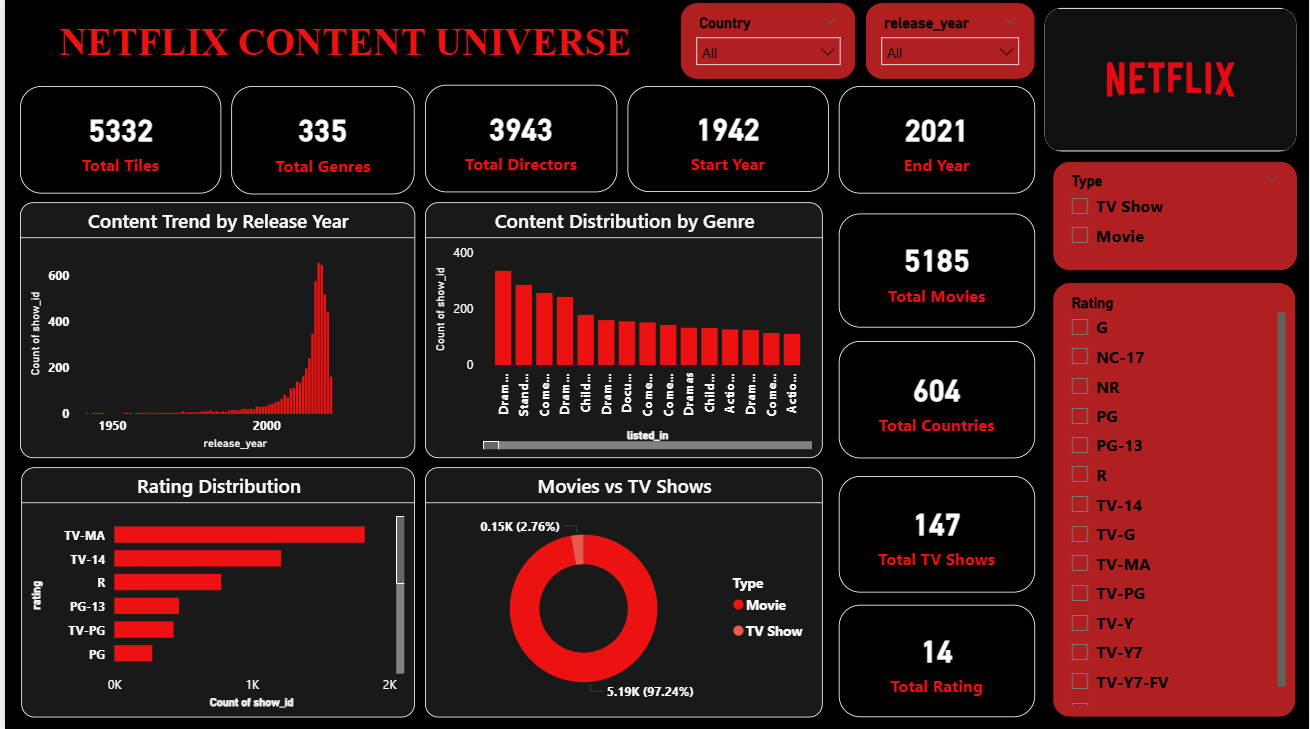

What the dashboard file says about the page in this screenshot:
{"tool":"powerbi","page":{"name":"Netflix Project","canvas":[1280,720],"ordinal":0},"visuals":[{"type":"card","fields":{"Values":["Netflix_data.Total_Directors"]},"box":[412.3,87.1,189,105.5],"z":0},{"type":"donutChart","title":"Movies vs TV Shows","fields":{"Category":["Netflix_data.type"],"Y":["CountNonNull(Netflix_data.show_id)"]},"box":[412.3,462.6,390.2,245.4],"z":1000},{"type":"clusteredColumnChart","title":"Content Trend by Release Year","fields":{"Category":["Netflix_data.release_year"],"Y":["CountNonNull(Netflix_data.show_id)"]},"box":[14.7,202.5,387.7,251.5],"z":2000},{"type":"card","fields":{"Values":["Netflix_data.Total_Tiles"]},"box":[14.7,88.3,197.5,105.5],"z":3000},{"type":"card","fields":{"Values":["Netflix_data.Total_Genres"]},"box":[222.1,88.3,180.4,106.7],"z":4000},{"type":"card","fields":{"Values":["Netflix_data.Start_Year"]},"box":[611,88.3,197.5,104.3],"z":5000},{"type":"card","fields":{"Values":["Netflix_data.End_Year"]},"box":[818.4,88.3,192.6,105.5],"z":6000},{"type":"barChart","title":"Rating Distribution","fields":{"Category":["Netflix_data.rating"],"Y":["CountNonNull(Netflix_data.show_id)"]},"box":[16,462.6,386.5,245.4],"z":7000},{"type":"lineStackedColumnComboChart","title":"Content Distribution by Genre","fields":{"Category":["Netflix_data.listed_in"],"Y":["CountNonNull(Netflix_data.show_id)"]},"box":[412.3,202.5,390.2,251.5],"z":8000},{"type":"slicer","fields":{"Values":["Netflix_data.type"]},"box":[1028.2,162,240.5,108],"z":9000},{"type":"slicer","fields":{"Values":["Netflix_data.country"]},"box":[662.6,6.1,173,76.1],"z":10000},{"type":"slicer","fields":{"Values":["Netflix_data.rating"]},"box":[1028.2,281,239.3,427],"z":11000},{"type":"slicer","fields":{"Values":["Netflix_data.release_year"]},"box":[844.2,6.1,166.9,76.1],"z":12000},{"type":"textbox","box":[14.7,11,639.3,72.4],"z":13000},{"type":"image","box":[1019.6,11,249.1,142.3],"z":14000},{"type":"card","fields":{"Values":["Netflix_data.Total_Countries"]},"box":[818.4,338.7,192.6,115.3],"z":15000},{"type":"card","fields":{"Values":["Netflix_data.Total_Movies"]},"box":[818.4,213.5,192.6,111.7],"z":16000},{"type":"card","fields":{"Values":["Netflix_data.Total_TV Shows"]},"box":[818.4,471.2,192.6,114.1],"z":17000},{"type":"card","fields":{"Values":["Netflix_data.Total_Rating"]},"box":[818.4,597.5,192.6,110.4],"z":18000}]}

Visuals, with their boxes in screenshot pixels (x1, y1, x2, y2), scaled from the page's 1280x720 canvas onto the 1310x729 screenshot:
card - Netflix_data.Total_Directors: locate(422, 88, 615, 195)
"Movies vs TV Shows" donutChart: locate(422, 468, 821, 717)
"Content Trend by Release Year" clusteredColumnChart: locate(15, 205, 412, 460)
card - Netflix_data.Total_Tiles: locate(15, 89, 217, 196)
card - Netflix_data.Total_Genres: locate(227, 89, 412, 197)
card - Netflix_data.Start_Year: locate(625, 89, 827, 195)
card - Netflix_data.End_Year: locate(838, 89, 1035, 196)
"Rating Distribution" barChart: locate(16, 468, 412, 717)
"Content Distribution by Genre" lineStackedColumnComboChart: locate(422, 205, 821, 460)
slicer - Netflix_data.type: locate(1052, 164, 1298, 273)
slicer - Netflix_data.country: locate(678, 6, 855, 83)
slicer - Netflix_data.rating: locate(1052, 285, 1297, 717)
slicer - Netflix_data.release_year: locate(864, 6, 1035, 83)
textbox: locate(15, 11, 669, 84)
image: locate(1043, 11, 1298, 155)
card - Netflix_data.Total_Countries: locate(838, 343, 1035, 460)
card - Netflix_data.Total_Movies: locate(838, 216, 1035, 329)
card - Netflix_data.Total_TV Shows: locate(838, 477, 1035, 593)
card - Netflix_data.Total_Rating: locate(838, 605, 1035, 717)
